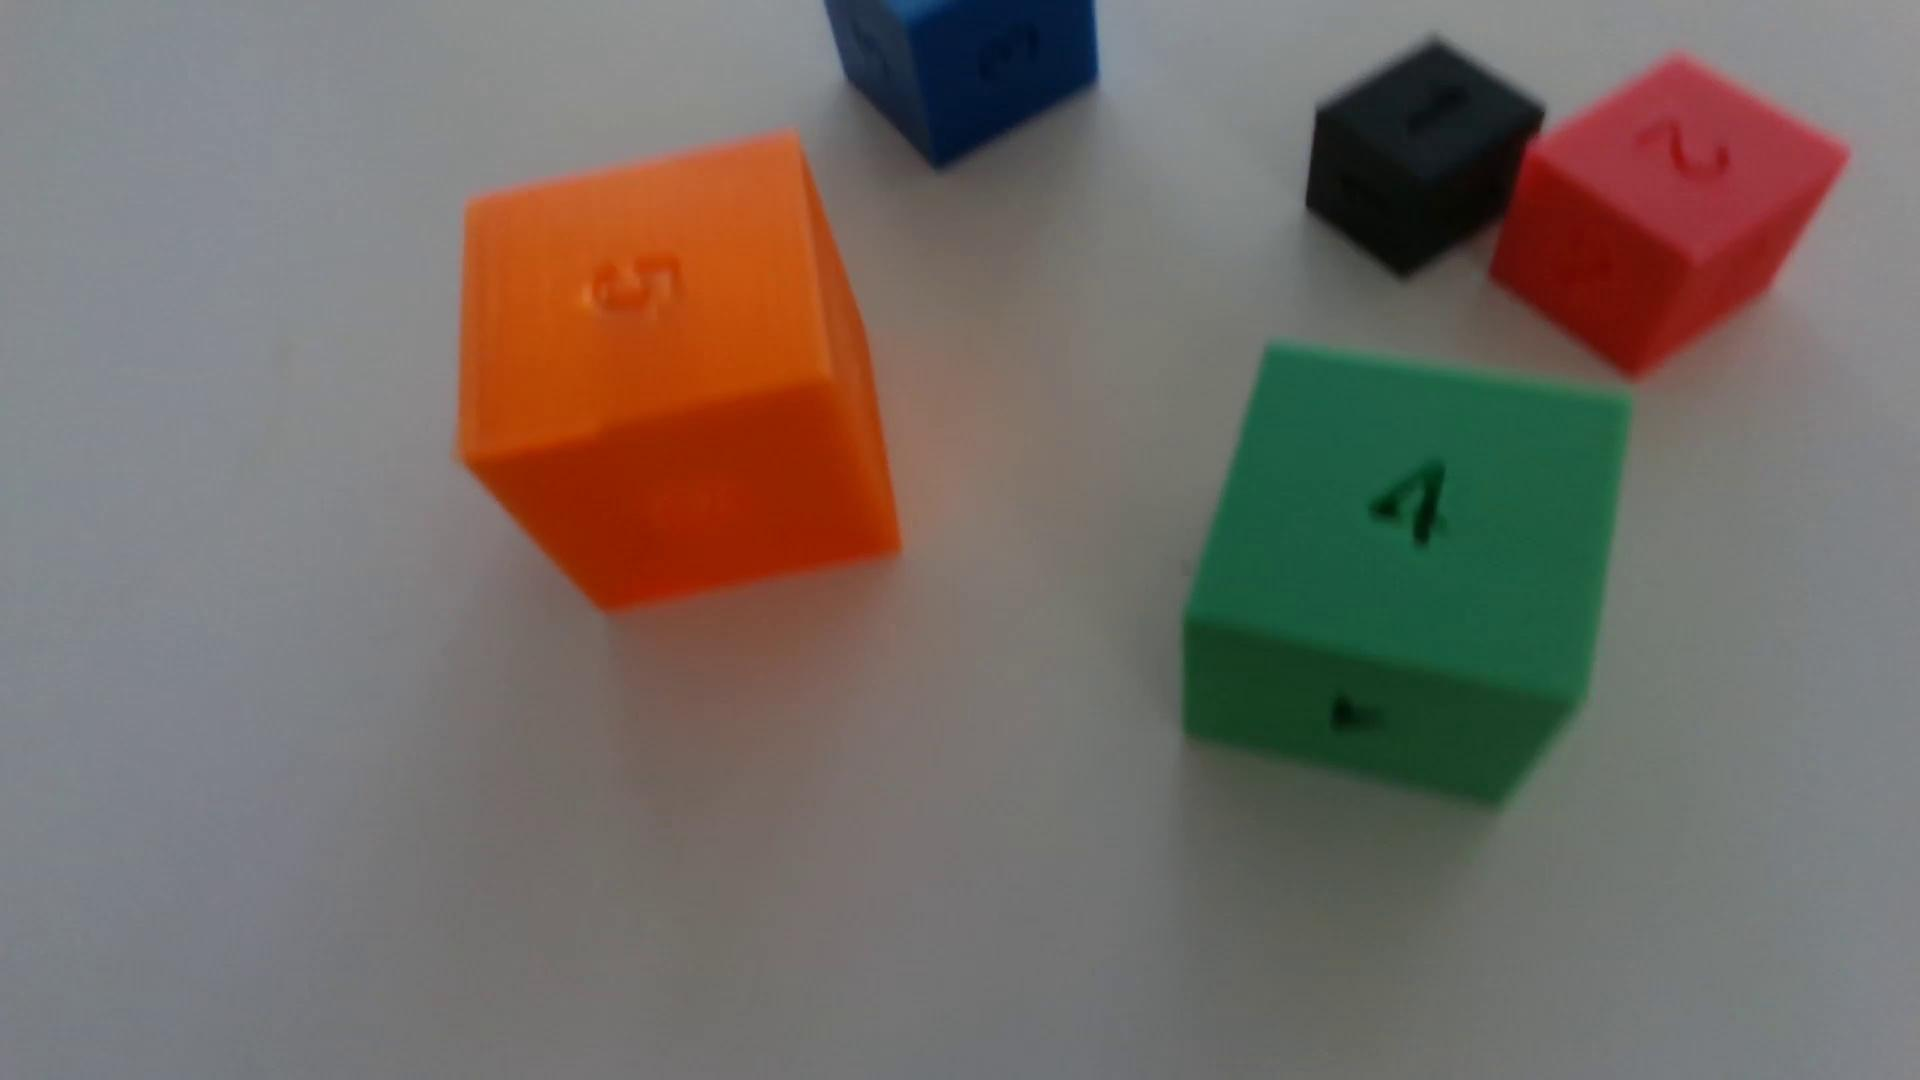black: (1304, 38, 1545, 278)
blue: (824, 0, 1098, 169)
green: (1182, 345, 1630, 804)
orange: (458, 137, 899, 611)
red: (1491, 57, 1847, 378)
